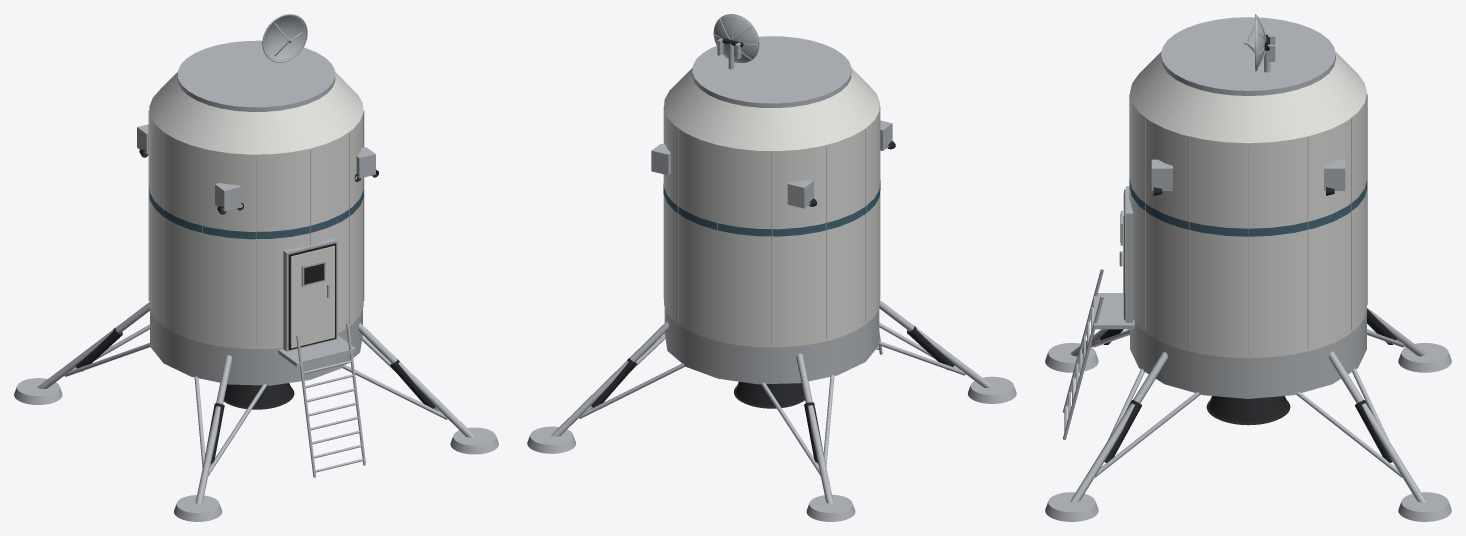
File: artemis_lander.glb
3 views of the same model, side by side, from view 1: azimuth 30°, elevation 25°; view 2: azimuth 150°, elevation 25°; view 3: azimuth 270°, elevation 25° (orthographic). The views are drawn at different scales.
Visible parts, largest first — view 1: pressure_cabin, upper_transition, roof_cap, lower_hull, crew_hatch, main_strut (×3), footpad (×3), accent_band, reflector_shell, descent_engine, landing_platform, hatch_frame (+2 smaller); view 2: pressure_cabin, upper_transition, roof_cap, lower_hull, main_strut (×3), footpad (×3), accent_band, descent_engine, reflector_shell, thruster_mount, leg_brace; view 3: pressure_cabin, upper_transition, roof_cap, lower_hull, footpad (×4), main_strut (×2), accent_band, descent_engine, leg_brace (×2), thruster_mount (×2), landing_platform, hatch_frame (+1 smaller).
Part boxes in pixels (left/top/right/bottom): pressure_cabin: left=149, top=107, right=363, bottom=348; upper_transition: left=149, top=72, right=363, bottom=154; roof_cap: left=177, top=40, right=335, bottom=111; lower_hull: left=150, top=309, right=362, bottom=385; crew_hatch: left=291, top=246, right=334, bottom=348; main_strut (×3): left=37, top=302, right=474, bottom=504; footpad (×3): left=14, top=378, right=498, bottom=521; accent_band: left=149, top=185, right=363, bottom=239; reflector_shell: left=263, top=15, right=306, bottom=61; descent_engine: left=223, top=383, right=294, bottom=409; landing_platform: left=278, top=335, right=356, bottom=366; hatch_frame: left=283, top=238, right=337, bottom=351; pressure_cabin: left=664, top=106, right=879, bottom=347; upper_transition: left=664, top=68, right=879, bottom=151; roof_cap: left=692, top=36, right=851, bottom=107; lower_hull: left=664, top=307, right=879, bottom=384; main_strut (×3): left=551, top=300, right=992, bottom=504; footpad (×3): left=527, top=376, right=1016, bottom=521; accent_band: left=663, top=180, right=880, bottom=236; descent_engine: left=734, top=381, right=804, bottom=408; reflector_shell: left=714, top=15, right=758, bottom=62; thruster_mount: left=787, top=179, right=813, bottom=208; leg_brace: left=579, top=363, right=685, bottom=418; pressure_cabin: left=1130, top=94, right=1366, bottom=358; upper_transition: left=1130, top=51, right=1366, bottom=143; roof_cap: left=1161, top=17, right=1335, bottom=95; lower_hull: left=1130, top=309, right=1366, bottom=398; footpad (×4): left=1045, top=343, right=1451, bottom=521; main_strut (×2): left=1070, top=351, right=1426, bottom=502; accent_band: left=1129, top=179, right=1367, bottom=236; descent_engine: left=1206, top=396, right=1290, bottom=425; leg_brace (×2): left=1095, top=392, right=1401, bottom=477; thruster_mount (×2): left=1151, top=159, right=1345, bottom=190; landing_platform: left=1094, top=293, right=1134, bottom=329; hatch_frame: left=1125, top=186, right=1132, bottom=322.
Bounding box in the file's own units: 6.52 × 7.71 × 6.52.
5 materials, 5 textured.
